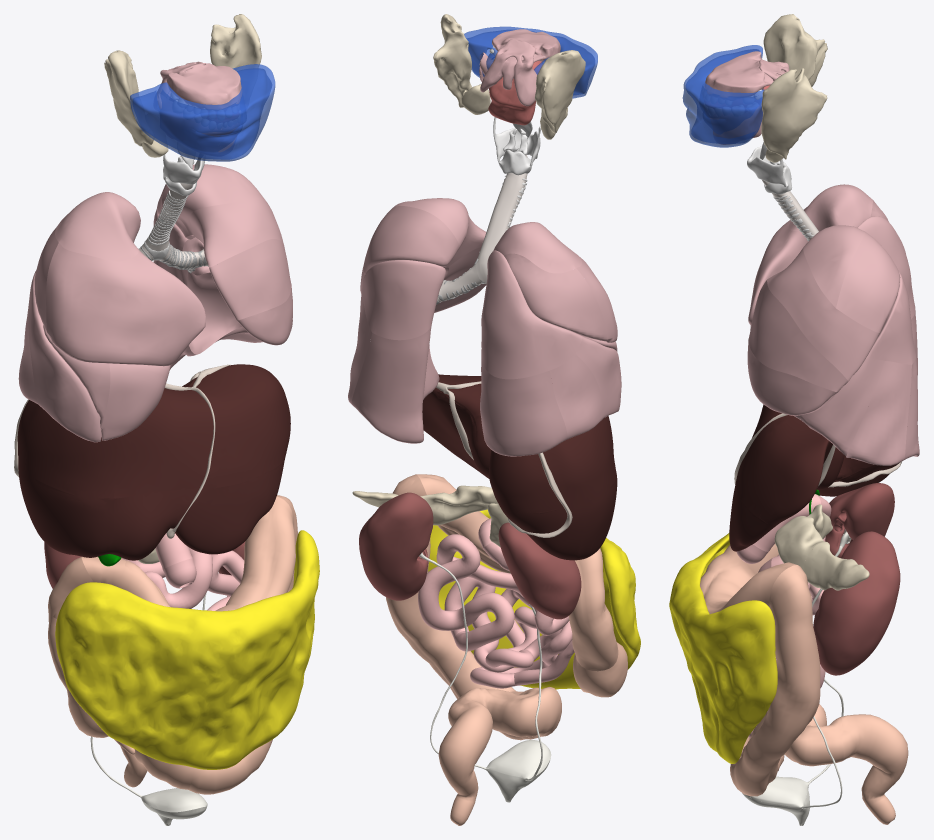
The model's file is female-visceral.glb.
3 renders of one model, left to right at view 1: azimuth 30°, elevation 25°; view 2: azimuth 150°, elevation 25°; view 3: azimuth 270°, elevation 25°, orthographic. The views are drawn at different scales.
Parts seen in each view (by area): view 1: VH_F_omentum, VH_F_capsule_of_the_liver, VH_F_right_anterior_bronchopulmonary_segm, VH_F_buccal_mucosa, VH_F_transverse_colon, VH_F_left_superomedial_segment1, VH_F_right_anterior_basal_bronchopulmonary_segment, VH_F_lingula_superior_bronchopulmonary_segment, VH_F_right_apical_bronchopulmonary_segment, VH_F_left_anterior_bronchopulmonary_segment, VH_F_right_medial_bronchopulmonary_segment, VH_F_left_superomedial_segment (+27 smaller); view 2: VH_F_capsule_of_the_liver, VH_F_right_superior_bronchopulmonary_segment, VH_F_left_posterior_basal_bronchopulmonary_segment, VH_F_kidney_capsule_L, VH_F_right_posterior_basal_bronchopulmonary_segment, VH_F_jejenum, VH_F_ileum, VH_F_left_superior_bronchopulmonary_segment, VH_F_bare_area_of_liver, VH_F_omentum, VH_F_right_posterior_bronchopulmonary_segment, VH_F_kidney_capsule_R (+36 smaller); view 3: VH_F_omentum, VH_F_descending_colon, VH_F_capsule_of_the_liver, VH_F_kidney_capsule_L, VH_F_left_anterior_bronchopulmonary_segment, VH_F_buccal_mucosa, VH_F_lingula_superior_bronchopulmonary_segment, VH_F_left_lateral_basal_bronchopulmonary_segment, VH_F_rectum, VH_F_left_posterior_bronchopulmonary_segment, VH_F_parotid_gland_L, VH_F_transverse_colon (+24 smaller).
Part boxes in pixels (left/top/right/bottom): VH_F_omentum: left=55, top=530, right=319, bottom=769; VH_F_capsule_of_the_liver: left=17, top=364, right=290, bottom=560; VH_F_right_anterior_bronchopulmonary_segm: left=46, top=243, right=205, bottom=366; VH_F_buccal_mucosa: left=130, top=64, right=275, bottom=161; VH_F_transverse_colon: left=81, top=496, right=295, bottom=611; VH_F_left_superomedial_segment1: left=114, top=385, right=215, bottom=498; VH_F_right_anterior_basal_bronchopulmonary_segment: left=28, top=300, right=101, bottom=442; VH_F_lingula_superior_bronchopulmonary_segment: left=209, top=239, right=291, bottom=320; VH_F_right_apical_bronchopulmonary_segment: left=55, top=192, right=140, bottom=261; VH_F_left_anterior_bronchopulmonary_segment: left=189, top=199, right=283, bottom=267; VH_F_right_medial_bronchopulmonary_segment: left=100, top=363, right=170, bottom=440; VH_F_left_superomedial_segment: left=190, top=366, right=290, bottom=488; VH_F_capsule_of_the_liver: left=423, top=374, right=617, bottom=560; VH_F_right_superior_bronchopulmonary_segment: left=481, top=250, right=582, bottom=379; VH_F_left_posterior_basal_bronchopulmonary_segment: left=351, top=325, right=439, bottom=443; VH_F_kidney_capsule_L: left=359, top=492, right=433, bottom=600; VH_F_right_posterior_basal_bronchopulmonary_segment: left=480, top=356, right=567, bottom=456; VH_F_jejenum: left=418, top=534, right=523, bottom=651; VH_F_ileum: left=444, top=577, right=572, bottom=688; VH_F_left_superior_bronchopulmonary_segment: left=362, top=260, right=445, bottom=340; VH_F_bare_area_of_liver: left=443, top=384, right=567, bottom=533; VH_F_omentum: left=428, top=509, right=640, bottom=689; VH_F_right_posterior_bronchopulmonary_segment: left=504, top=253, right=607, bottom=341; VH_F_kidney_capsule_R: left=498, top=522, right=581, bottom=619; VH_F_omentum: left=669, top=533, right=777, bottom=763; VH_F_descending_colon: left=730, top=565, right=820, bottom=796; VH_F_capsule_of_the_liver: left=729, top=404, right=890, bottom=551; VH_F_kidney_capsule_L: left=813, top=531, right=900, bottom=675; VH_F_left_anterior_bronchopulmonary_segment: left=767, top=247, right=879, bottom=380; VH_F_buccal_mucosa: left=682, top=45, right=764, bottom=147; VH_F_lingula_superior_bronchopulmonary_segment: left=748, top=280, right=848, bottom=392; VH_F_left_lateral_basal_bronchopulmonary_segment: left=846, top=361, right=911, bottom=465; VH_F_rectum: left=841, top=714, right=908, bottom=824; VH_F_left_posterior_bronchopulmonary_segment: left=836, top=232, right=900, bottom=332; VH_F_parotid_gland_L: left=761, top=68, right=827, bottom=159; VH_F_transverse_colon: left=700, top=544, right=796, bottom=613.
Bounding box in the file's own units: 0.2555 × 0.7721 × 0.222.
